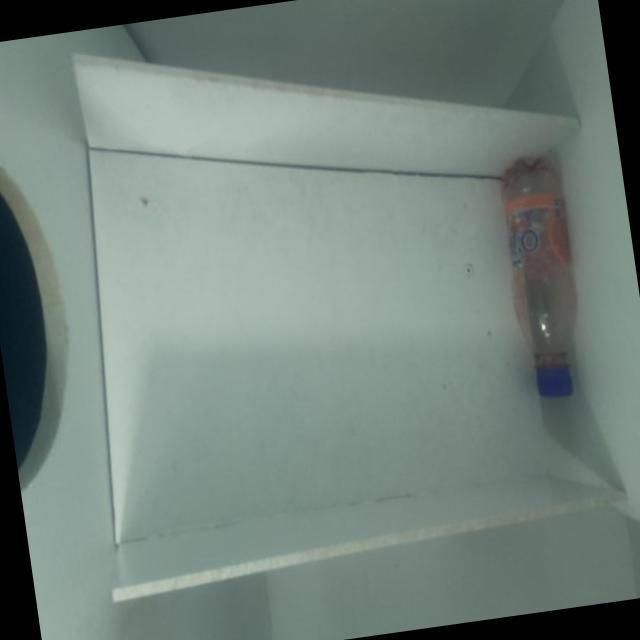good: (465, 122, 606, 417)
